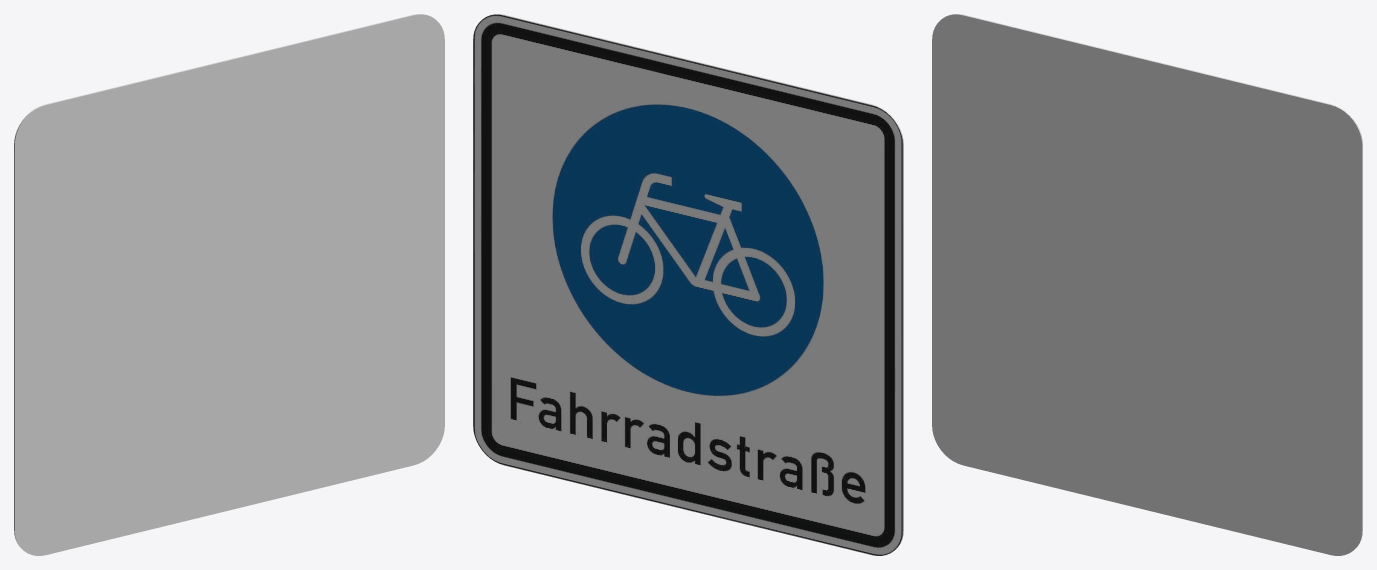
3 renders of one model, left to right at view 1: azimuth 30°, elevation 25°; view 2: azimuth 150°, elevation 25°; view 3: azimuth 330°, elevation 25°, orthographic.
Visible parts, largest first — view 1: Plane; view 2: Plane; view 3: Plane.
Boxes of the visible parts, x1=… form: Plane: x1=14, y1=14, x2=444, y2=555; Plane: x1=473, y1=14, x2=903, y2=555; Plane: x1=932, y1=14, x2=1362, y2=555.
Bounding box in the file's own units: 0.6 × 0.6 × 0.002.
2 materials, 1 textured.
